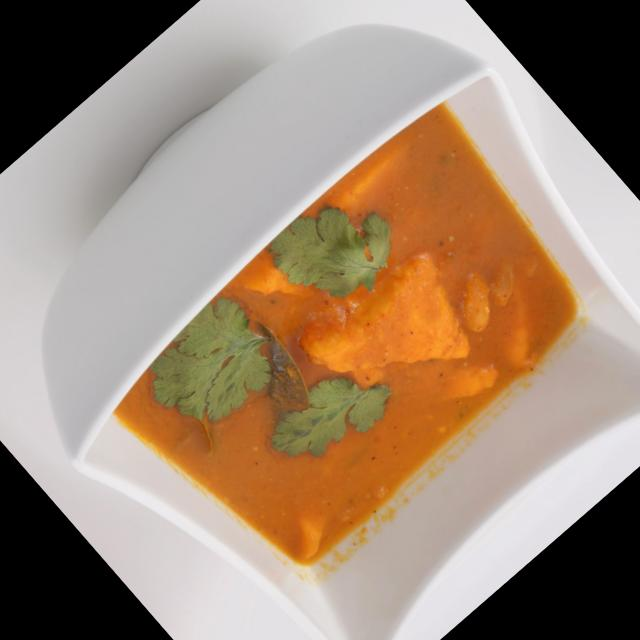ShahiPaneer: (94, 92, 624, 606)
